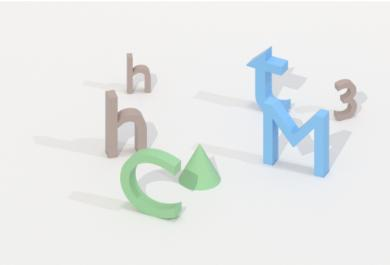0-TamGiac: (180, 139, 223, 195)
3: (332, 75, 359, 125)
C: (119, 146, 184, 222)
M: (262, 95, 333, 181)
h: (102, 87, 150, 161), (124, 48, 154, 98)
t: (244, 42, 294, 113)
